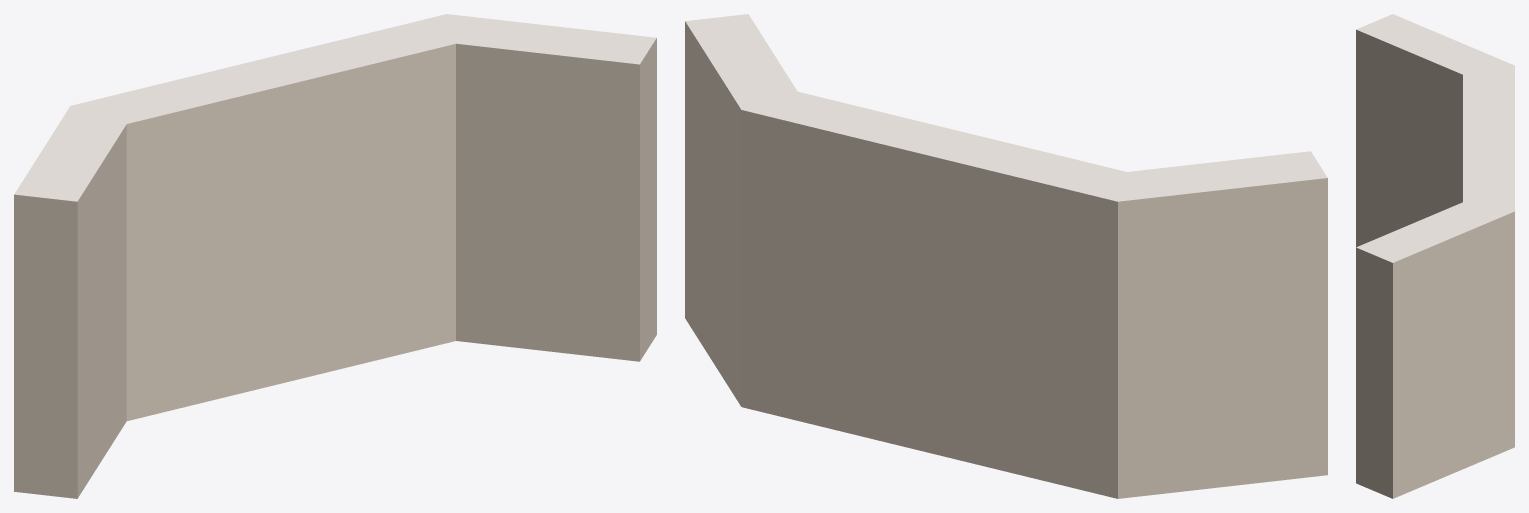
3 views of the same model, side by side, from view 1: azimuth 30°, elevation 25°; view 2: azimuth 150°, elevation 25°; view 3: azimuth 270°, elevation 25° (orthographic). The views are drawn at different scales.
Visible parts, largest first — view 1: object1.005; view 2: object1.005; view 3: object1.005.
Boxes of the visible parts, <box> form: object1.005: <box>14,14,656,498</box>; object1.005: <box>685,14,1327,498</box>; object1.005: <box>1356,14,1514,498</box>.
Size of the model in its own units: 2.26 by 1 by 0.6101.
